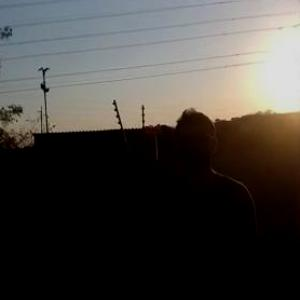follow: (144, 102, 264, 299)
